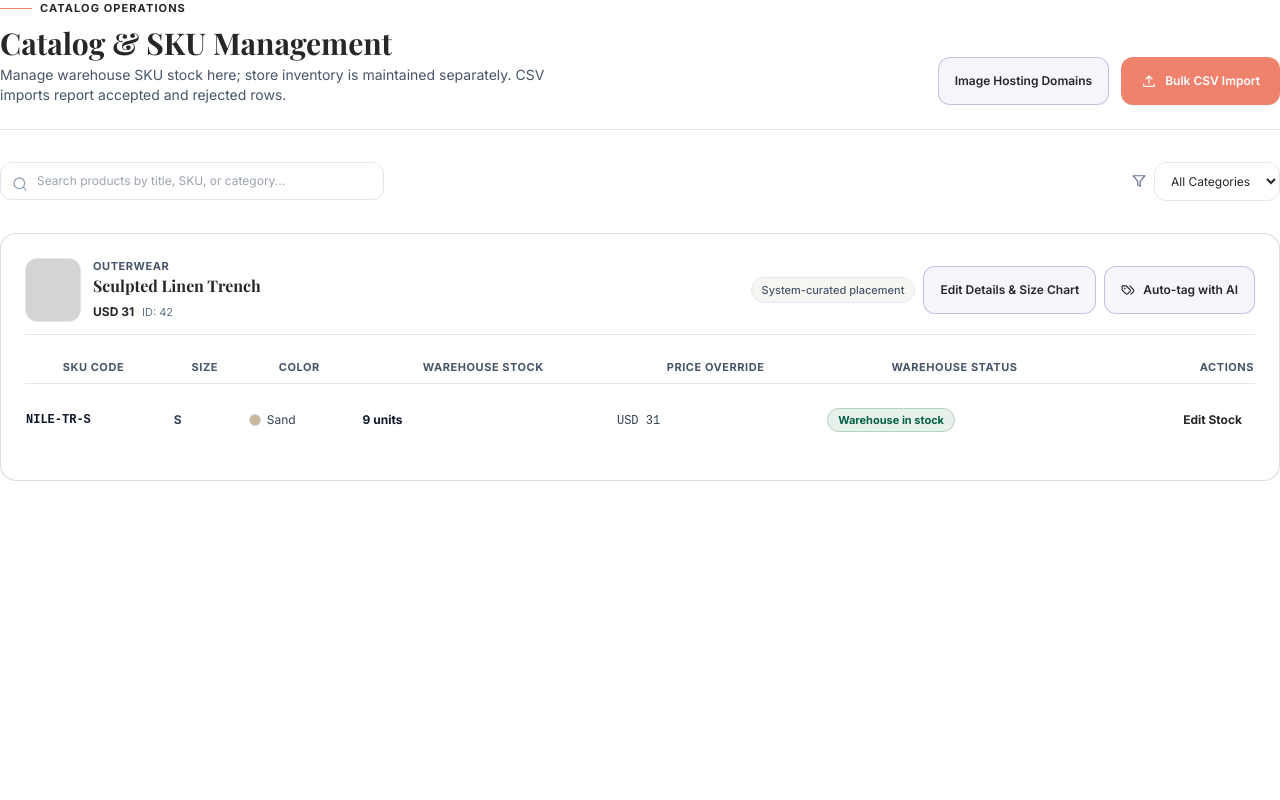
Priority 4 & 5 — Brand Domain Lifecycle, Field Contracts & Storefront Parity › edits canonical product fields & v1.0 size chart notes[] array while keeping is_featured non-editable
Check: the heading "Sculpted Linen Trench" is shown, box [93, 274, 261, 298]
Check: the text "System-curated placement" is shown, box [751, 276, 915, 303]
Click the button with test id "edit-product-42" at (1010, 290), box [923, 266, 1096, 314]
(page scrolled)
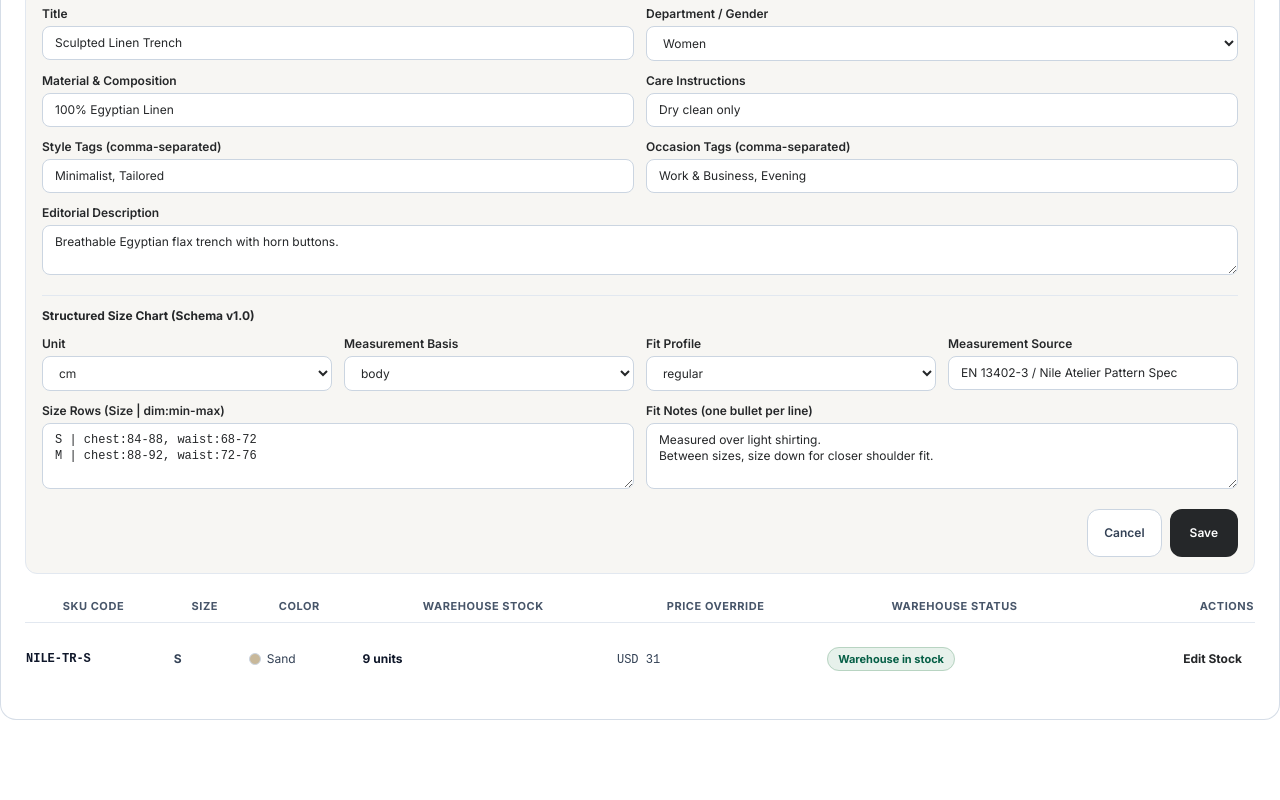
Click the button "Save" at (1204, 533), box [1170, 509, 1238, 557]
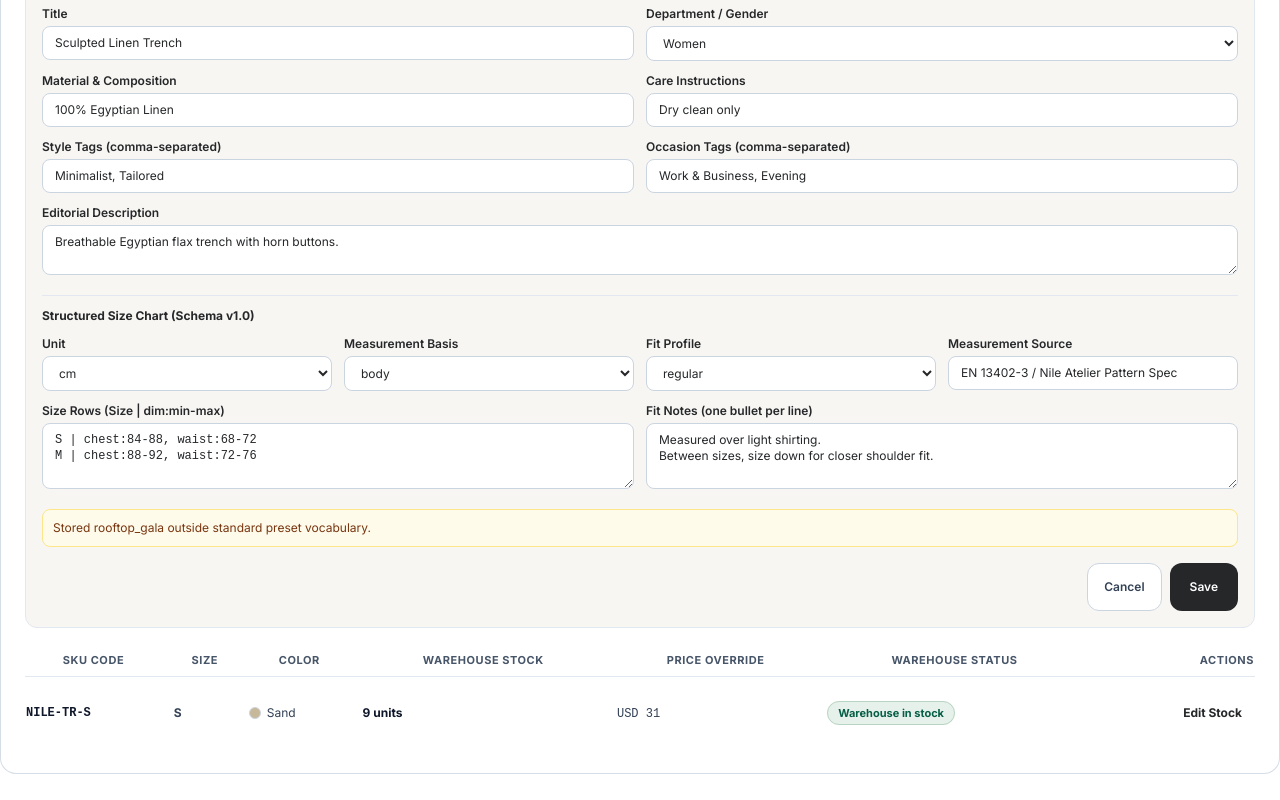
Check: the text "Stored rooftop_gala outside standard preset vocabulary." is shown, box [42, 509, 1238, 547]
